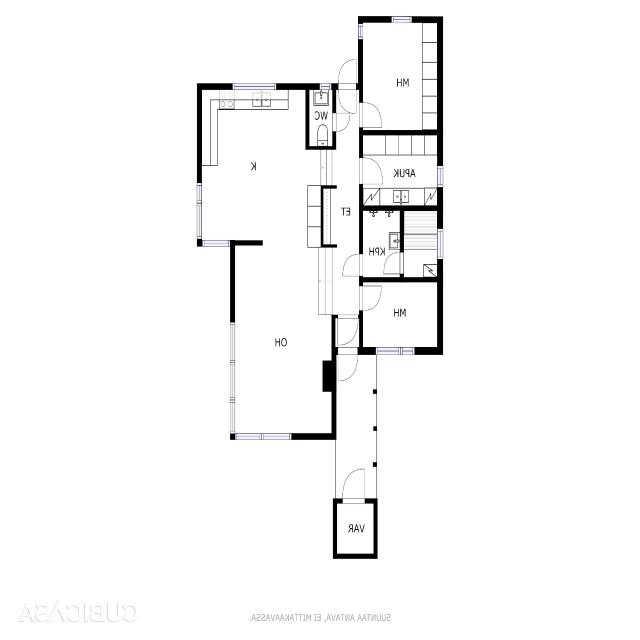door: (343, 469, 365, 504), (338, 347, 358, 381), (359, 158, 383, 184), (338, 314, 358, 345), (338, 59, 356, 90), (338, 83, 356, 114), (359, 102, 381, 127), (359, 286, 381, 310), (342, 254, 363, 276), (384, 252, 404, 274), (332, 113, 350, 131)
